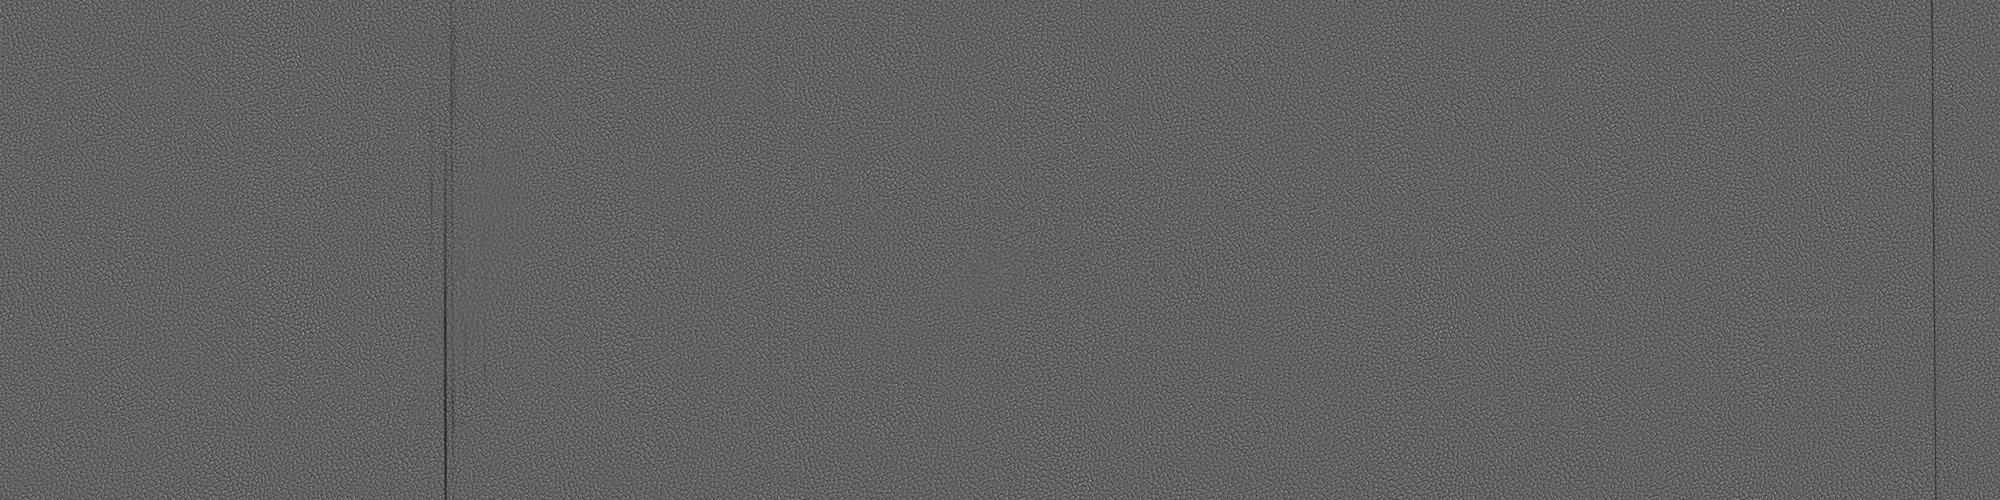DieDrag: (415, 5, 477, 497), (1913, 4, 1958, 500)
